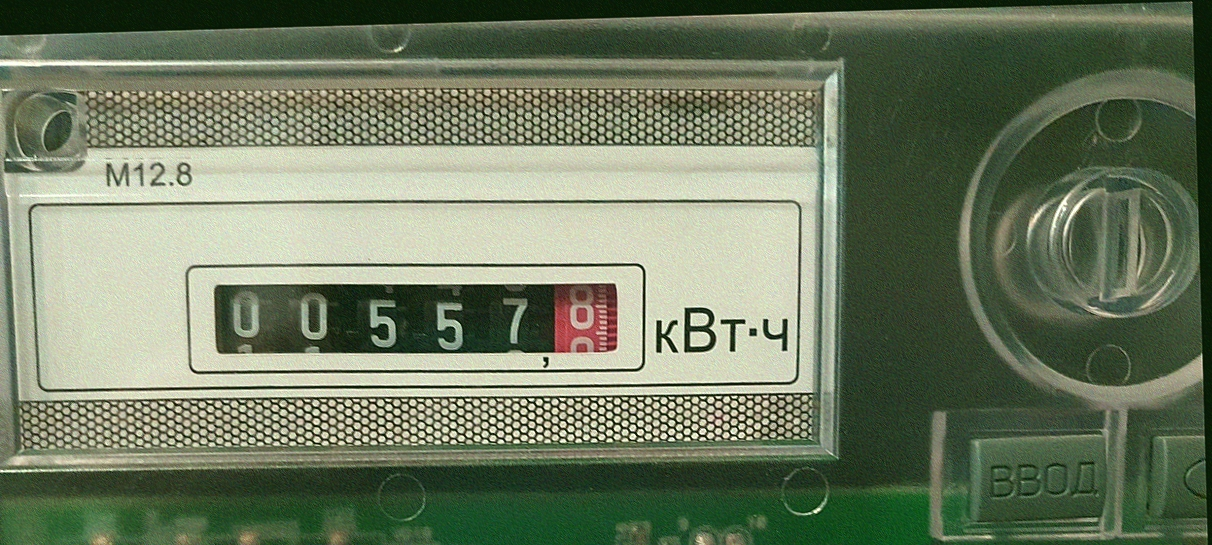0: (224, 286, 260, 343), (292, 290, 327, 343)
5: (427, 295, 466, 355), (361, 295, 397, 352)
7: (493, 293, 527, 349)
8: (564, 284, 593, 334)
screen: (177, 245, 649, 390)
